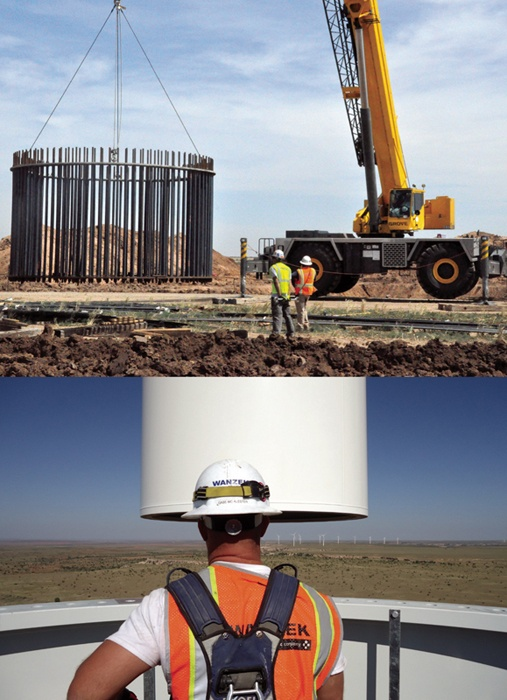white: (184, 452, 278, 557), (270, 248, 284, 264), (299, 255, 312, 269)
